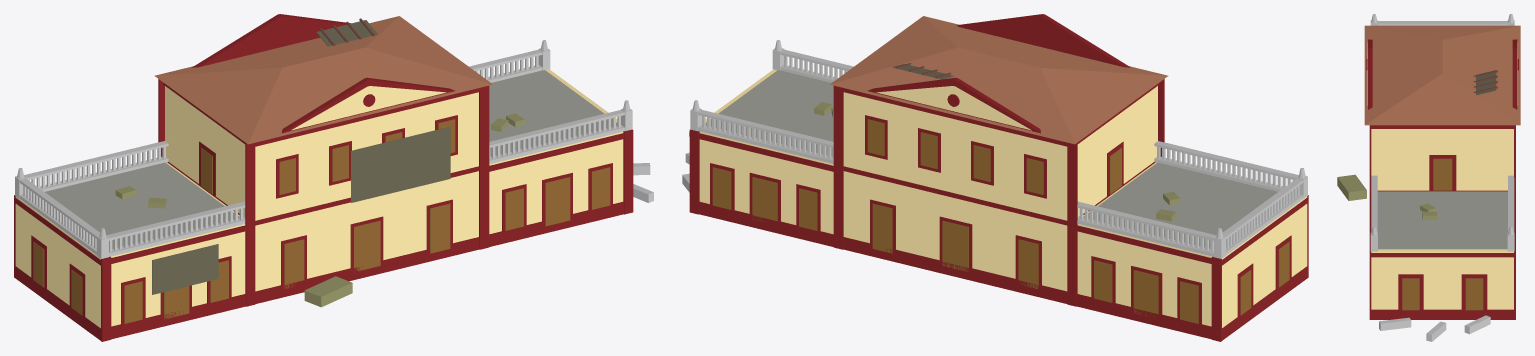
The model's file is SM_EdificioViajerosSagunto_v3_Caida_LOD0.fbx.
3 renders of one model, left to right at view 1: azimuth 30°, elevation 25°; view 2: azimuth 150°, elevation 25°; view 3: azimuth 270°, elevation 25°, orthographic. The views are drawn at different scales.
Visible parts, largest first — view 1: SM_edificio_viajeros_sagunto_v3_LOD0; view 2: SM_edificio_viajeros_sagunto_v3_LOD0; view 3: SM_edificio_viajeros_sagunto_v3_LOD0.
Boxes of the visible parts, box(x1,y1,x2,y2) form: SM_edificio_viajeros_sagunto_v3_LOD0: box(14, 14, 653, 341); SM_edificio_viajeros_sagunto_v3_LOD0: box(682, 14, 1308, 341); SM_edificio_viajeros_sagunto_v3_LOD0: box(1337, 14, 1520, 341).
Size of the model in its own units: 35.35 by 11.4 by 11.53.
